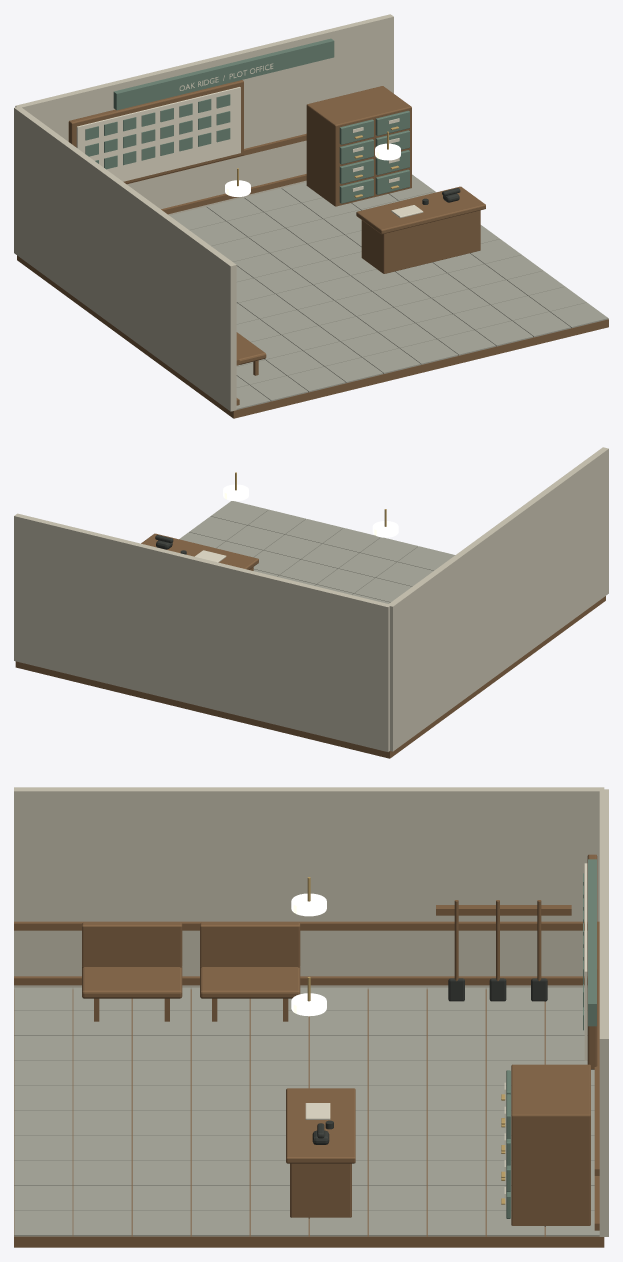
The model's file is interior-cemetery.glb.
3 renders of one model, top to bottom at view 1: azimuth 30°, elevation 25°; view 2: azimuth 150°, elevation 25°; view 3: azimuth 270°, elevation 25°, orthographic. The views are drawn at different scales.
Parts seen in each view (by area): view 1: stone floor slab, west wall, back wall, plot boundary, foundation, back wood rail, plot map paper, opal pendant; view 2: back wall, west wall, stone floor slab, foundation, opal pendant; view 3: stone floor slab, west wall, foundation, back wood rail, side wood rail, back wall, plot boundary, opal pendant, shovel blade, plot map paper.
Part boxes in pixels (x1,y1,x2,y2): stone floor slab: (170, 174, 608, 409); west wall: (14, 107, 236, 411); back wall: (15, 14, 393, 215); plot boundary: (85, 38, 409, 203); foundation: (17, 186, 608, 418); back wood rail: (68, 80, 411, 214); plot map paper: (76, 87, 399, 191); opal pendant: (225, 143, 400, 196); back wall: (14, 513, 391, 751); west wall: (388, 447, 608, 751); stone floor slab: (179, 501, 455, 603); foundation: (15, 533, 605, 758); opal pendant: (223, 484, 398, 537); stone floor slab: (14, 987, 599, 1236); west wall: (14, 787, 604, 989); foundation: (14, 922, 604, 1247); back wood rail: (511, 854, 599, 1230); side wood rail: (14, 900, 599, 985); back wall: (599, 789, 608, 1236); plot boundary: (506, 859, 596, 1218); opal pendant: (291, 893, 326, 1016); shovel blade: (448, 978, 547, 1001); plot map paper: (504, 863, 587, 1197).
Bounding box in the file's own units: 10.08 × 3.9 × 10.08.
